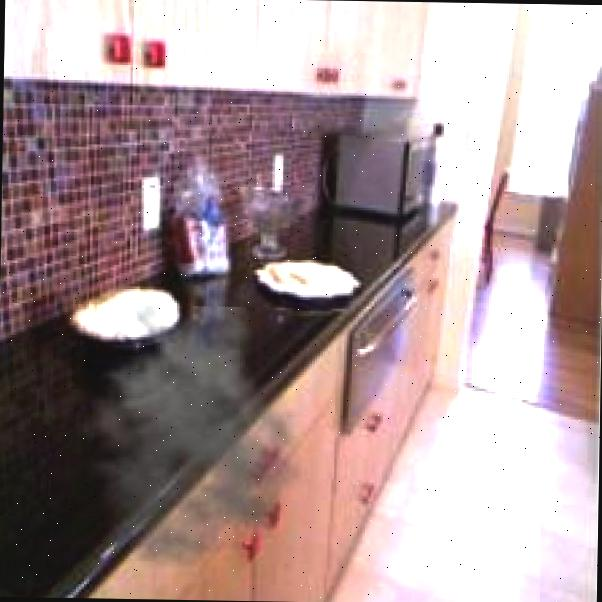smoke: (61, 305, 309, 571)
